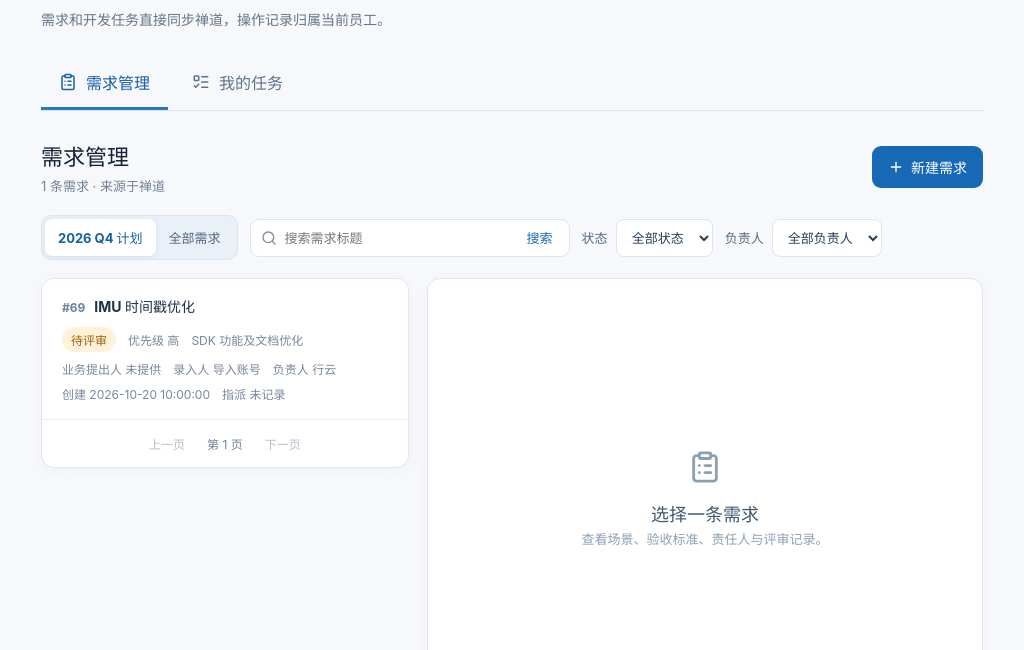
warns when ZenTao passed review but did not restore the owner
Click the button that starts with "IMU 时间戳优化": click(225, 350) [42,279,408,420]
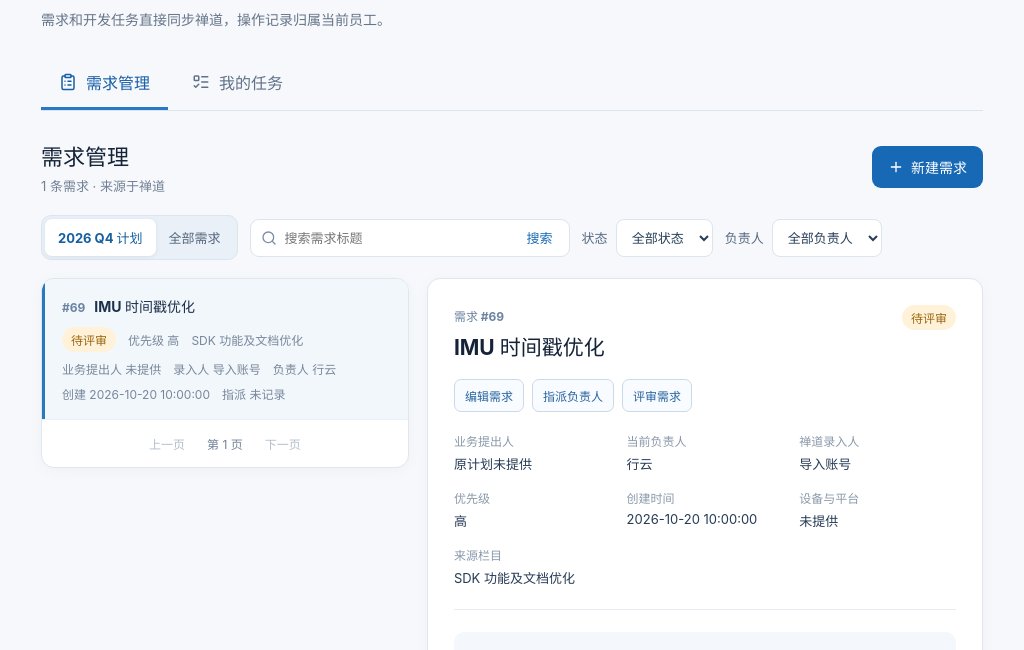
Click the button "评审需求": click(657, 395) [622,379,692,412]
(page scrolled)
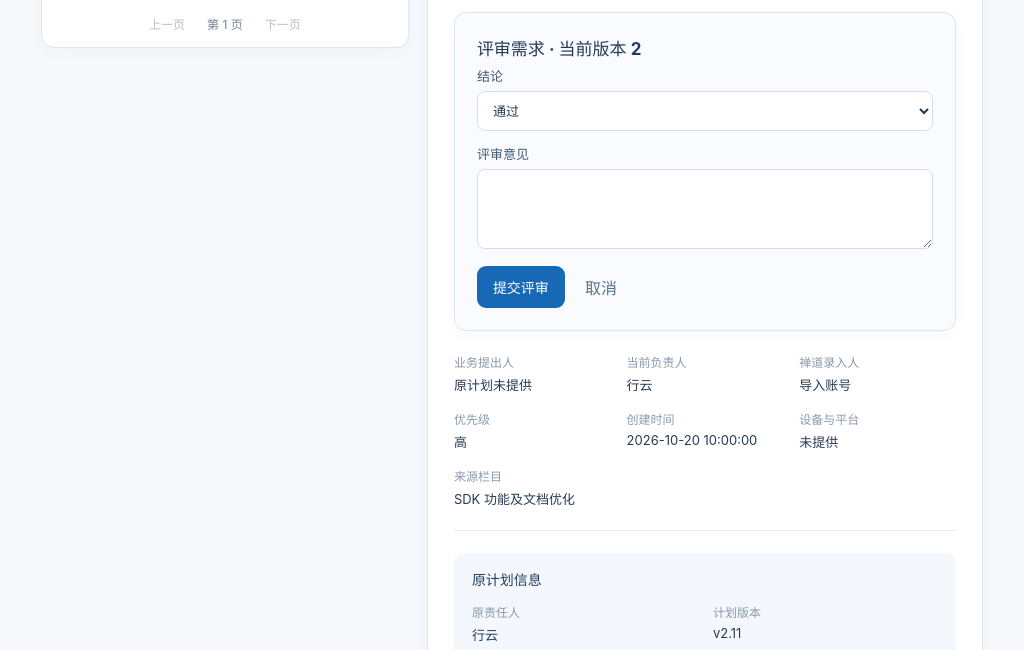
Click the submit button: click(521, 287) [477,266,565,308]
(page scrolled)
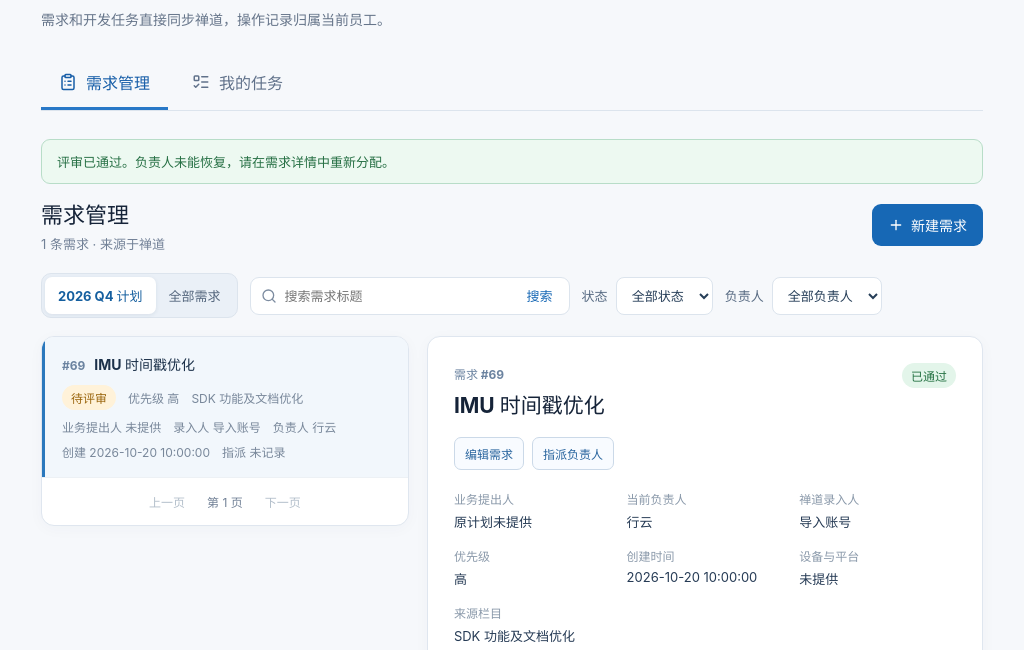
Result: the message "评审已通过。负责人未能恢复，请在需求详情中重新分配。" is shown at [41,139,983,184]
